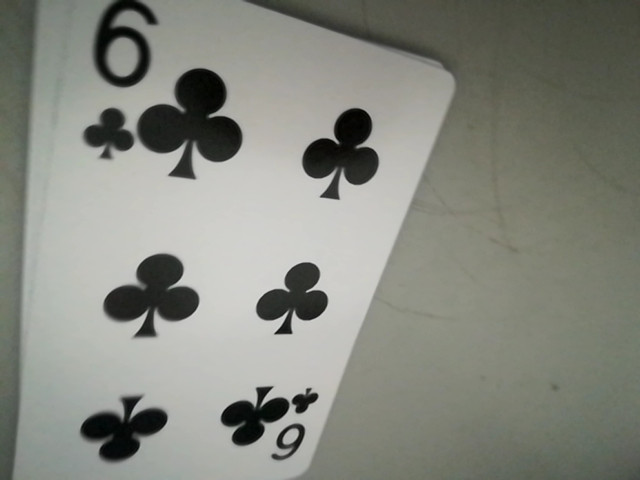mh 6: (70, 0, 176, 161), (268, 388, 321, 469)
